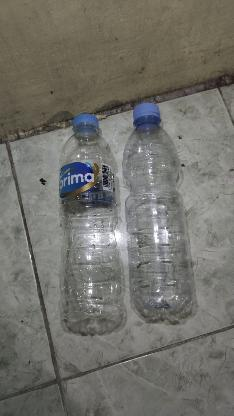Plastic Bottle: (122, 101, 196, 318), (58, 114, 127, 338)
